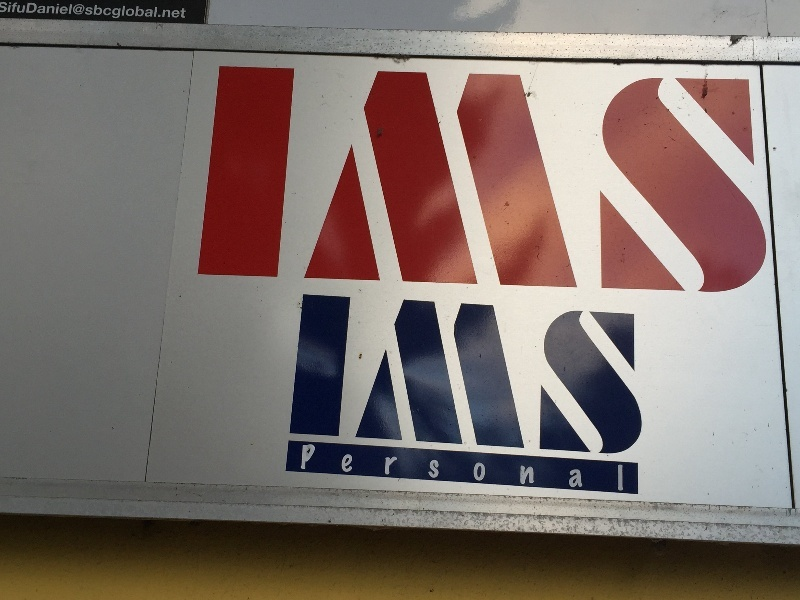text: (225, 66, 240, 298), (241, 66, 256, 298), (257, 66, 272, 298), (273, 66, 288, 298), (289, 66, 304, 298), (305, 66, 320, 298), (321, 66, 336, 298), (337, 66, 352, 298), (353, 66, 368, 298), (369, 66, 384, 298), (385, 66, 400, 298), (401, 66, 416, 298), (417, 66, 432, 298), (433, 66, 448, 298), (449, 66, 464, 298), (465, 66, 480, 298), (481, 66, 496, 298), (497, 66, 512, 298), (513, 66, 528, 298), (529, 66, 544, 298), (545, 66, 560, 298), (561, 66, 576, 298), (577, 66, 592, 298), (593, 66, 608, 298), (609, 66, 624, 298), (625, 66, 640, 298), (641, 66, 656, 298), (657, 66, 672, 298), (673, 66, 688, 298), (689, 66, 704, 298), (705, 66, 720, 298), (721, 66, 736, 298), (737, 66, 752, 298), (753, 66, 768, 298), (305, 294, 320, 458), (321, 294, 336, 458), (337, 294, 352, 458), (353, 294, 368, 458), (369, 294, 384, 458), (385, 294, 400, 458), (401, 294, 416, 458), (417, 294, 432, 458), (433, 294, 448, 458), (449, 294, 464, 458), (465, 294, 480, 458), (481, 294, 496, 458), (497, 294, 512, 458), (513, 294, 528, 458), (529, 294, 544, 458), (545, 294, 560, 458), (561, 294, 576, 458), (577, 294, 592, 458), (593, 294, 608, 458), (609, 294, 624, 458), (625, 294, 640, 458), (218, 66, 224, 298), (769, 66, 774, 298), (641, 294, 646, 458), (305, 445, 320, 492), (321, 445, 336, 492), (337, 445, 352, 492), (353, 445, 368, 492), (369, 445, 384, 492), (385, 445, 400, 492), (401, 445, 416, 492), (417, 445, 432, 492), (433, 445, 448, 492), (449, 445, 464, 492), (465, 445, 480, 492), (481, 445, 496, 492), (497, 445, 512, 492), (513, 445, 528, 492), (529, 445, 544, 492), (545, 445, 560, 492), (561, 445, 576, 492), (577, 445, 592, 492), (593, 445, 608, 492), (609, 445, 623, 492), (302, 294, 304, 458), (1, 2, 16, 23), (17, 2, 32, 23), (33, 2, 48, 23), (49, 2, 64, 23), (65, 2, 80, 23), (81, 2, 96, 23), (97, 2, 112, 23), (113, 2, 128, 23), (129, 2, 144, 23), (145, 2, 160, 23), (161, 2, 176, 23), (177, 2, 187, 23), (303, 445, 304, 492)
